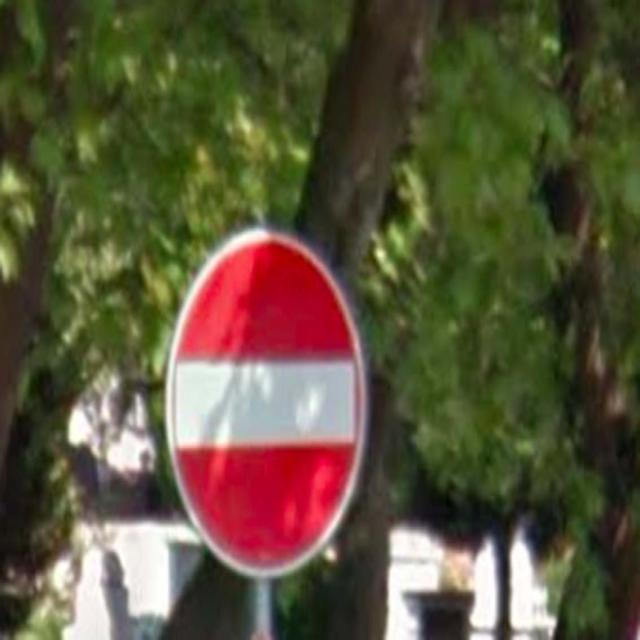girisyok: (166, 229, 365, 572)
